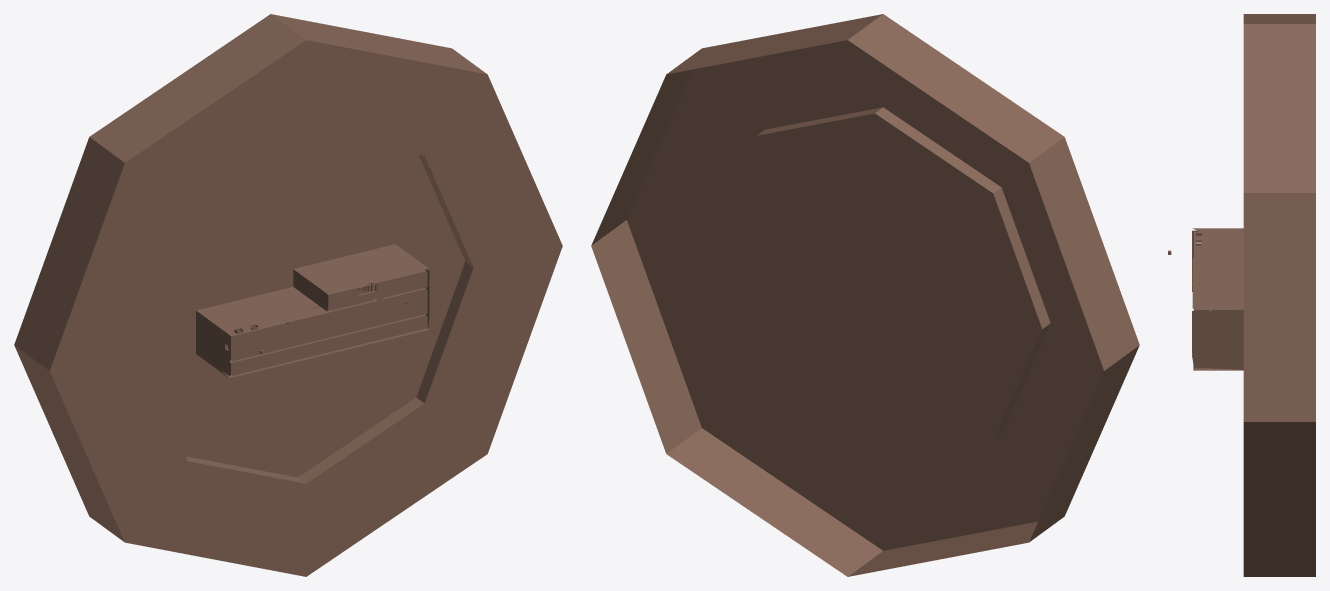
Rendered from tutorial_0001_dec.obj.
The picture shows the model from 3 angles, left to right: view 1: azimuth 30°, elevation 25°; view 2: azimuth 150°, elevation 25°; view 3: azimuth 270°, elevation 25°; orthographic projection.
Parts seen in each view (by area): view 1: Cube.012_Cube.019; view 2: Cube.012_Cube.019; view 3: Cube.012_Cube.019.
Part boxes in pixels (box(x1,y1,x2,y2)): Cube.012_Cube.019: box(14, 14, 562, 576); Cube.012_Cube.019: box(591, 14, 1139, 576); Cube.012_Cube.019: box(1168, 14, 1315, 576).
Bounding box in the file's own units: 2347 × 2347 × 579.
